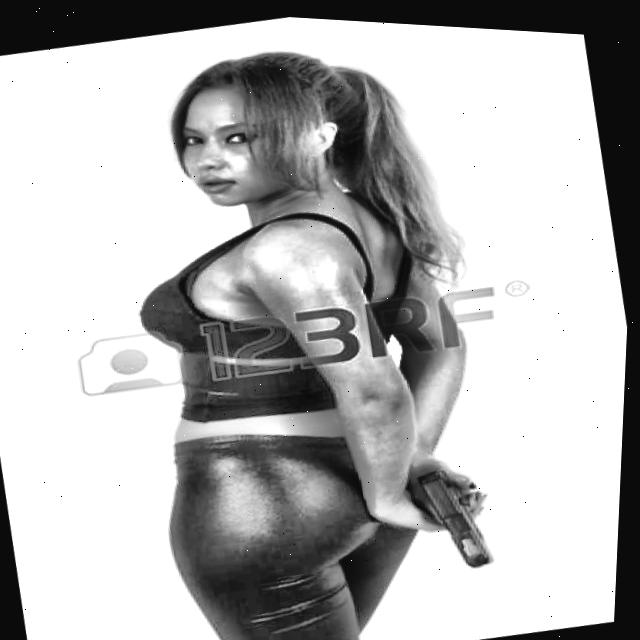pistol: (401, 441, 521, 590)
